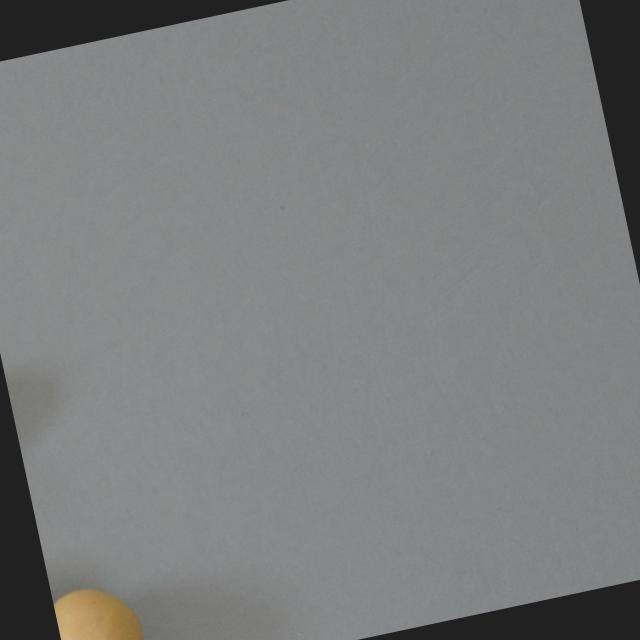cuerpos_extranos: (49, 568, 150, 640)
